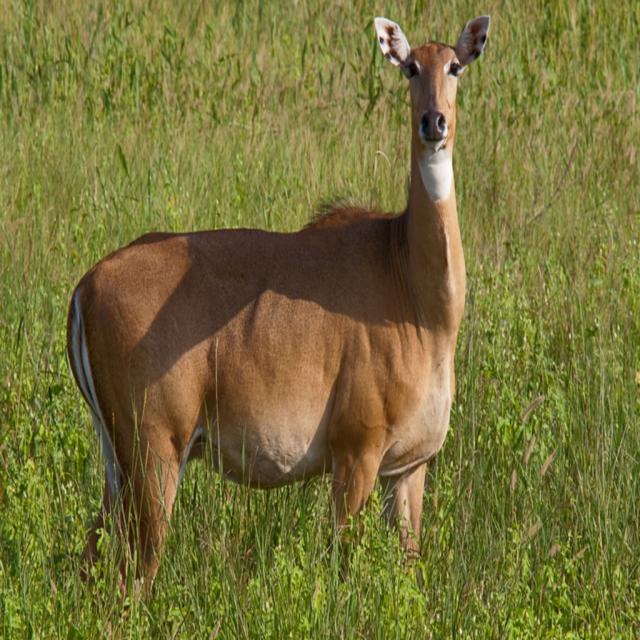Deer: (66, 16, 490, 606)
